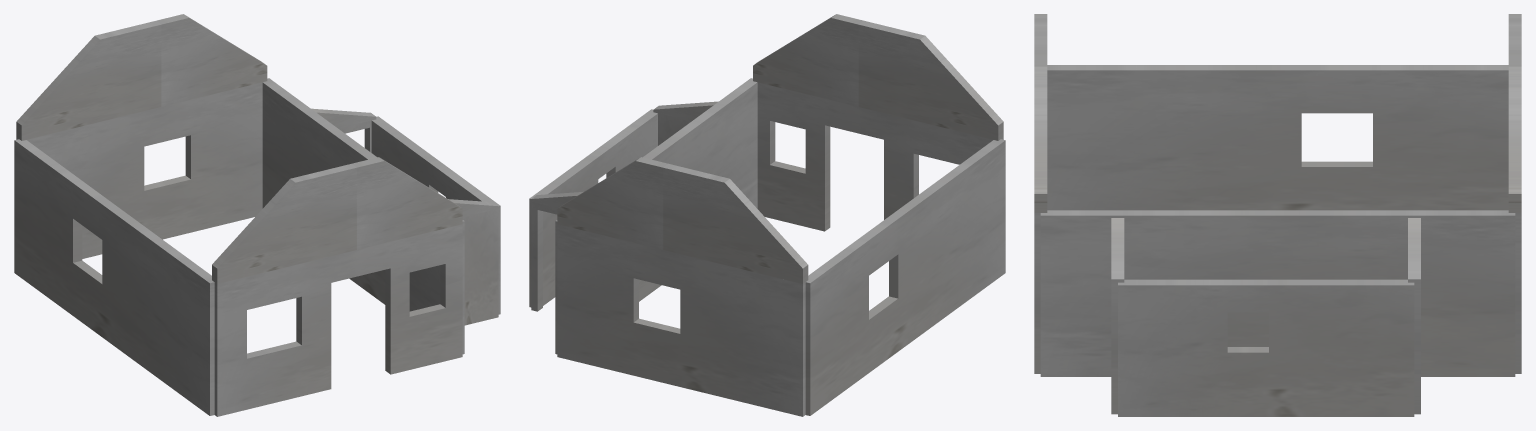
Rendered from BW_ElderCottage01_Plaster.fbx.
3 views of the same model, side by side, from view 1: azimuth 30°, elevation 25°; view 2: azimuth 150°, elevation 25°; view 3: azimuth 270°, elevation 25° (orthographic). The views are drawn at different scales.
Visible parts, largest first — view 1: BW_ElderCottage01_Plaster; view 2: BW_ElderCottage01_Plaster; view 3: BW_ElderCottage01_Plaster.
Boxes of the visible parts, box(x1,y1,x2,y2) form: BW_ElderCottage01_Plaster: box(14, 14, 500, 416); BW_ElderCottage01_Plaster: box(529, 14, 1005, 416); BW_ElderCottage01_Plaster: box(1034, 14, 1521, 416).
Bounding box in the file's own units: 7.62 × 4.86 × 8.22.
